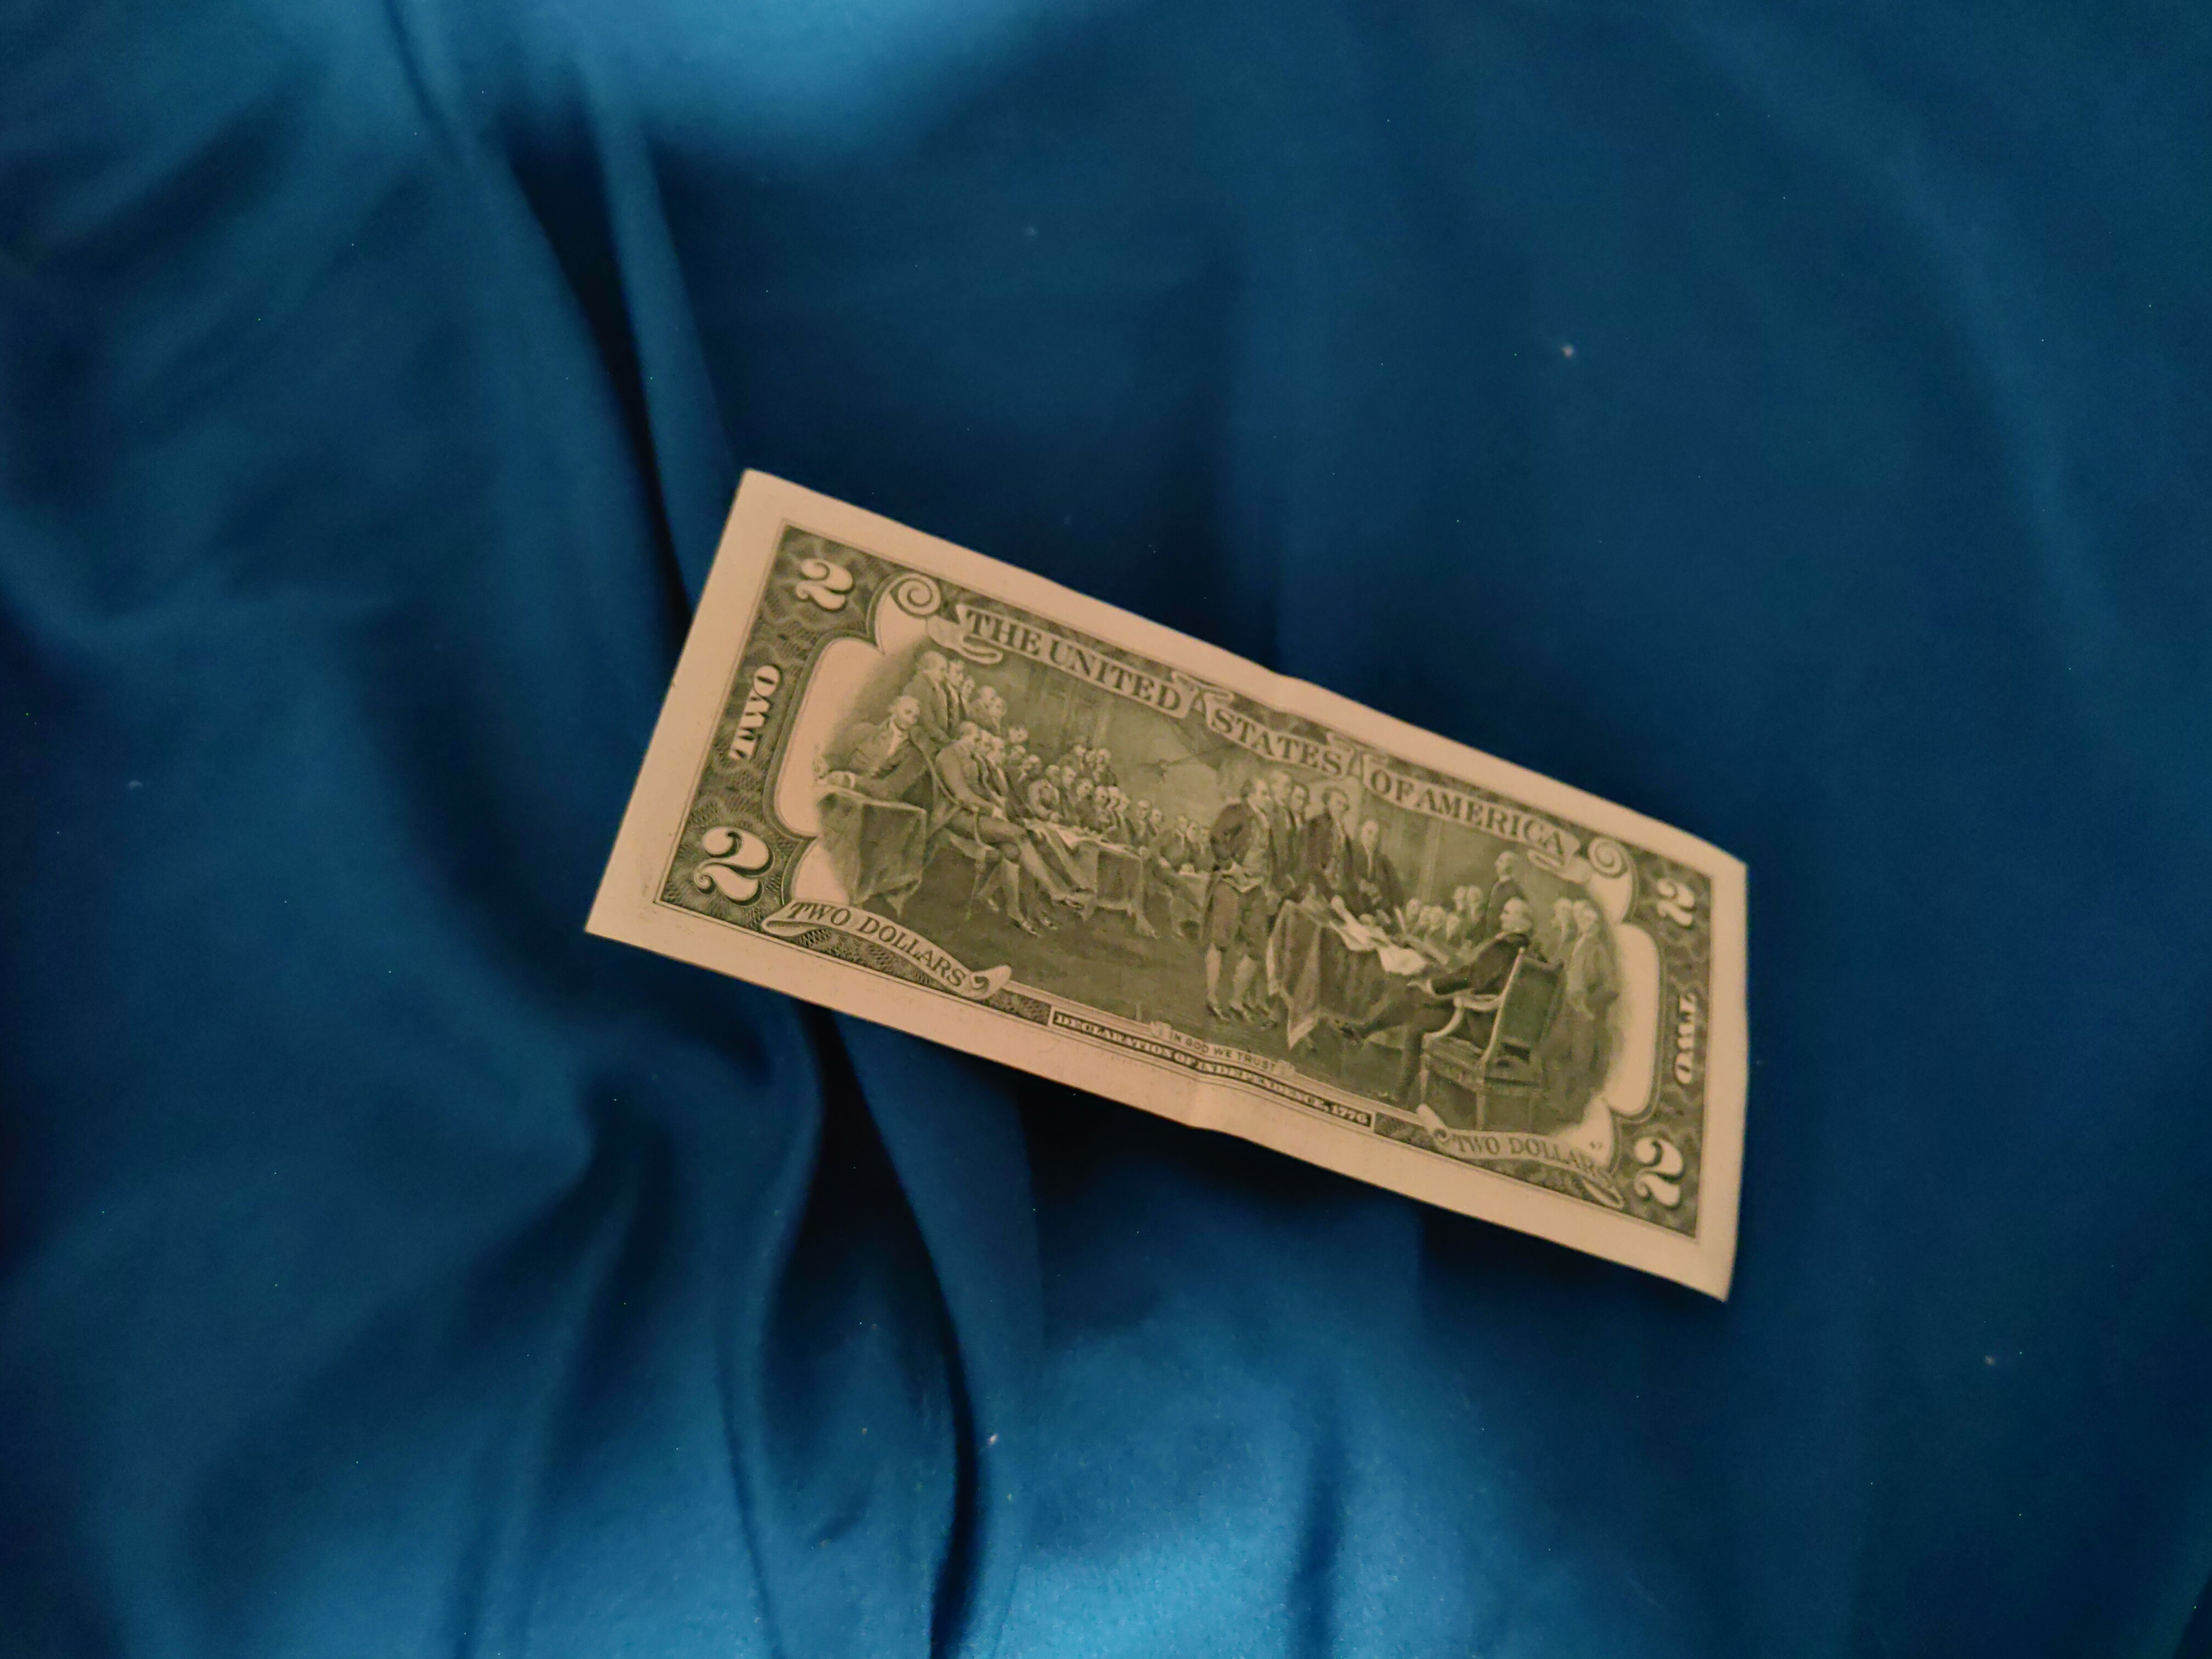TwoBill: (582, 467, 1752, 1309)
